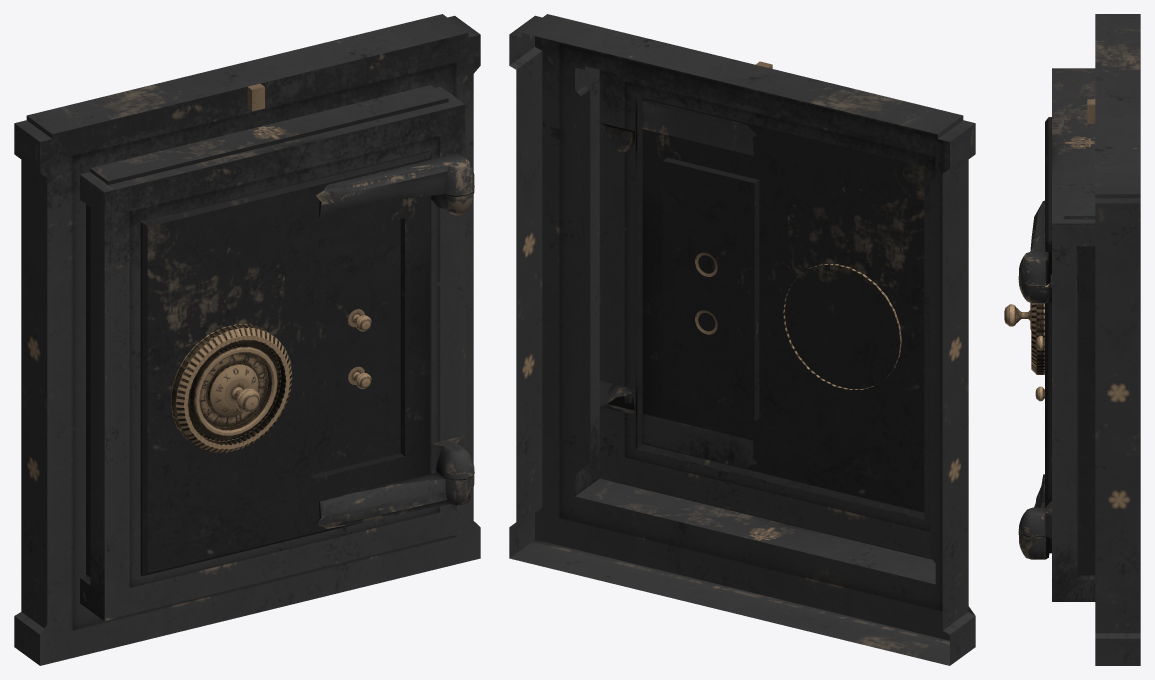
File: Wall Safe.fbx
3 views of the same model, side by side, from view 1: azimuth 30°, elevation 25°; view 2: azimuth 150°, elevation 25°; view 3: azimuth 270°, elevation 25° (orthographic). The views are drawn at different scales.
Visible parts, largest first — view 1: Cube_001; view 2: Cube_001; view 3: Cube_001.
Boxes of the visible parts, left/top/right/bottom form: Cube_001: left=14, top=14, right=480, bottom=665; Cube_001: left=509, top=14, right=975, bottom=665; Cube_001: left=1004, top=14, right=1140, bottom=665.
Bounding box in the file's own units: 97.86 × 112 × 29.75.
